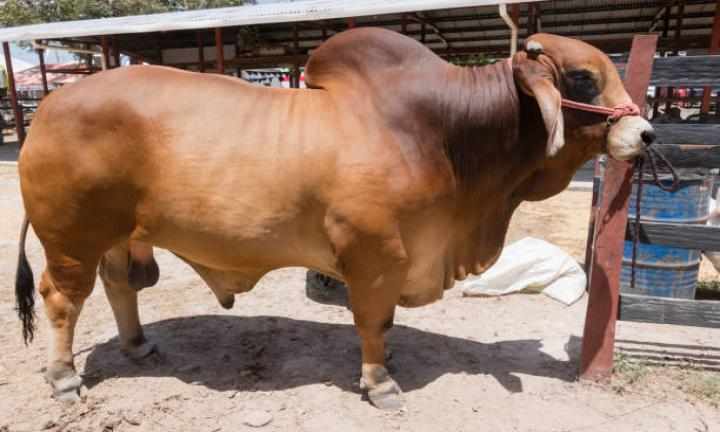Brahman: (19, 28, 653, 408)
